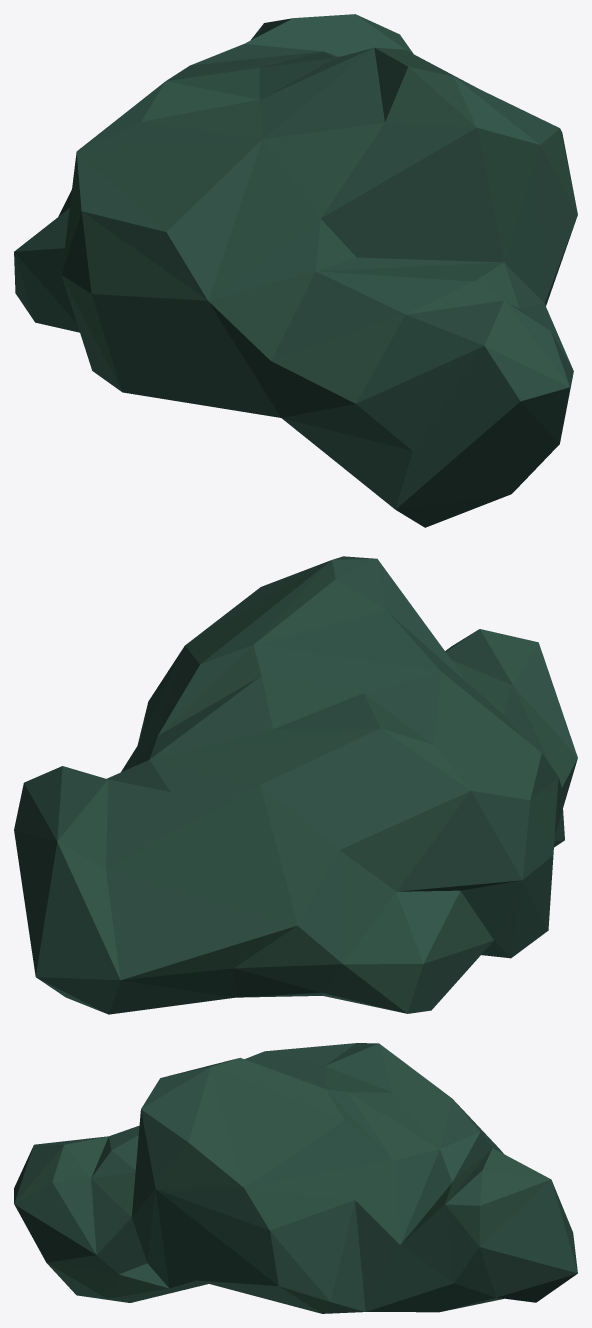
File: SM_large_rock_03.fbx
3 renders of one model, top to bottom at view 1: azimuth 30°, elevation 25°; view 2: azimuth 150°, elevation 25°; view 3: azimuth 270°, elevation 25°, orthographic. The views are drawn at different scales.
Parts seen in each view (by area): view 1: large_rock_03; view 2: large_rock_03; view 3: large_rock_03.
Part boxes in pixels (<box>): large_rock_03: <box>14,14,577,527</box>; large_rock_03: <box>14,556,577,1014</box>; large_rock_03: <box>14,1043,577,1313</box>.
Size of the model in its own units: 67.69 by 52.38 by 103.
